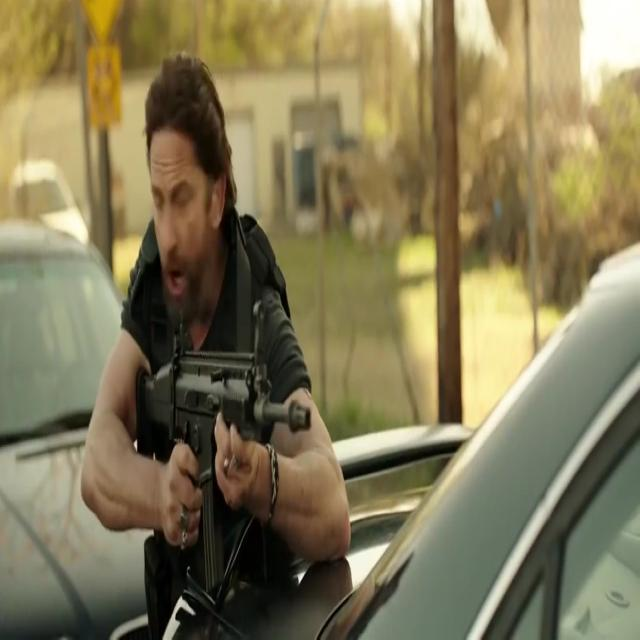Weapon: (104, 293, 323, 563)
